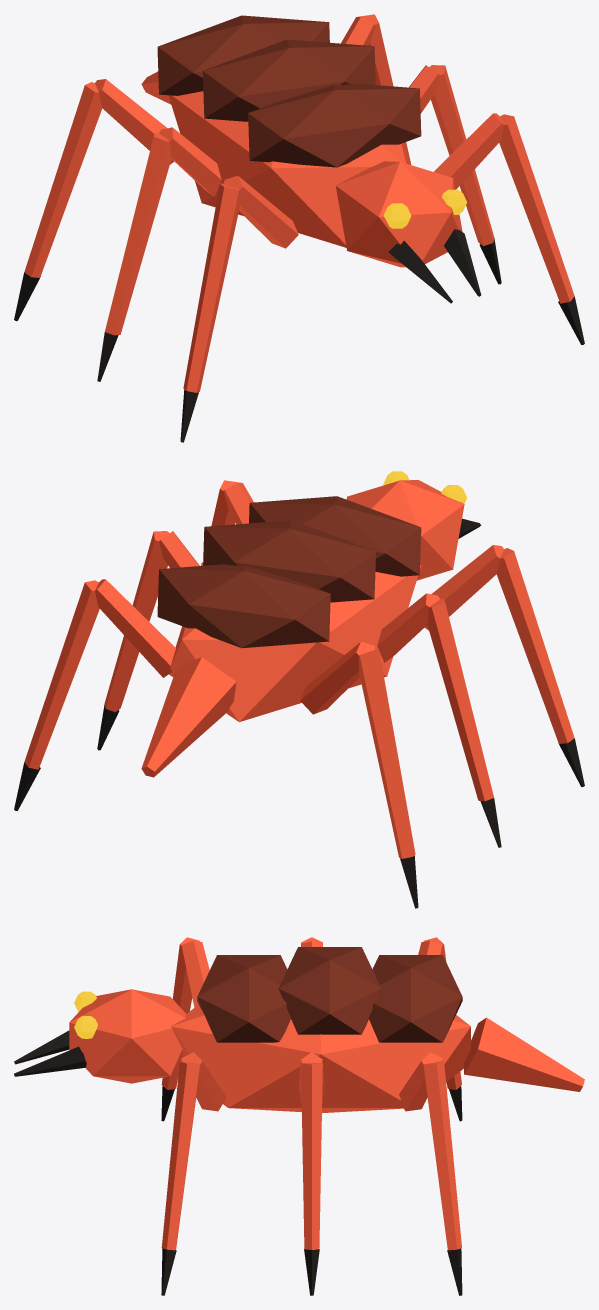
File: exo-swarmer.glb
3 views of the same model, one above another, from view 1: azimuth 30°, elevation 25°; view 2: azimuth 150°, elevation 25°; view 3: azimuth 270°, elevation 25° (orthographic). The views are drawn at different scales.
Parts seen in each view (by area): view 1: body; view 2: body; view 3: body.
Boxes of the visible parts, left/top/right/bottom form: body: left=14, top=14, right=584, bottom=442; body: left=14, top=471, right=584, bottom=908; body: left=14, top=937, right=584, bottom=1295.
Size of the model in its own units: 2.32 by 1.52 by 3.17.
